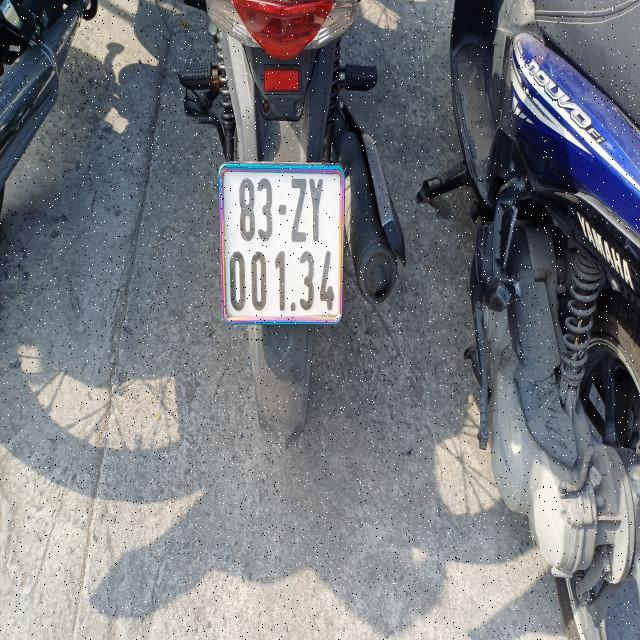0: (250, 250, 269, 314), (229, 251, 246, 313)
1: (274, 250, 288, 312)
3: (257, 177, 274, 242), (300, 250, 315, 314)
4: (320, 250, 335, 311)
8: (238, 178, 256, 242)
Y: (308, 176, 324, 243)
Z: (292, 176, 306, 243)
